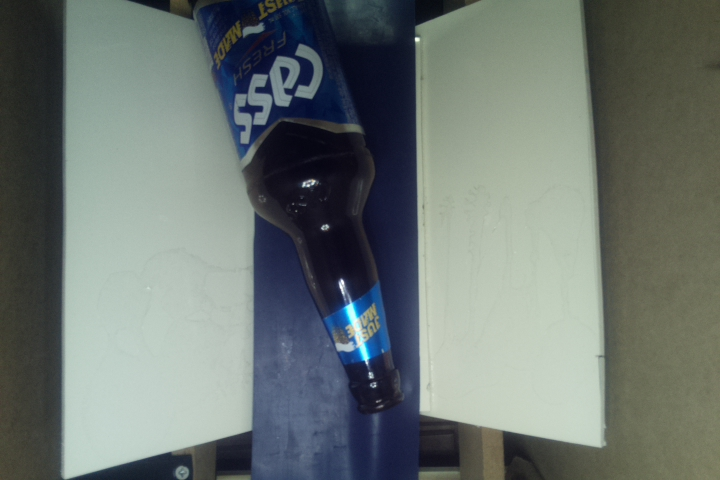makju: (190, 1, 411, 413)
